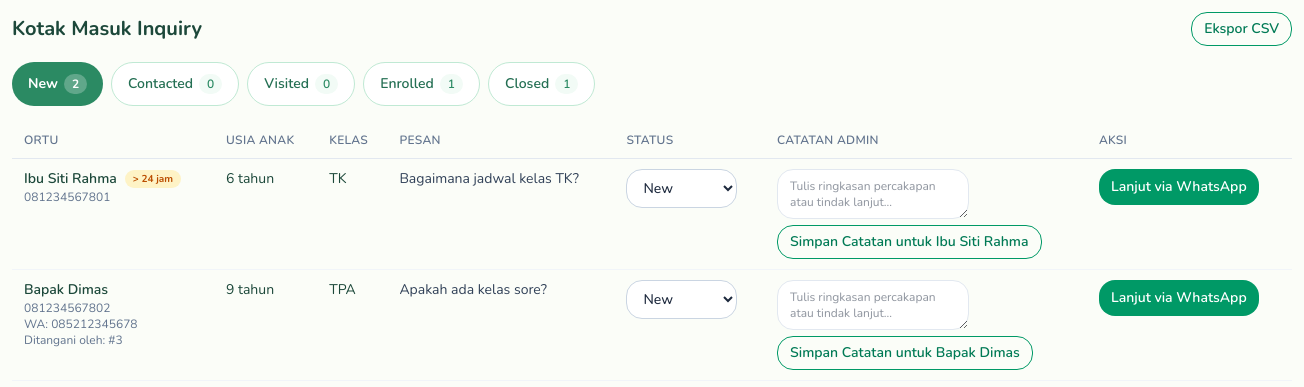
Test case: Inquiry inbox › changes status via PATCH with CSRF header and moves the row between tabs
The width and height of the screenshot is (1304, 387).
Expected: the text "Ibu Siti Rahma" is shown, [24,169,117,189]
Select "Contacted" in the dropdown named "Status Ibu Siti Rahma" at (682, 188), box [626,169,737,208]
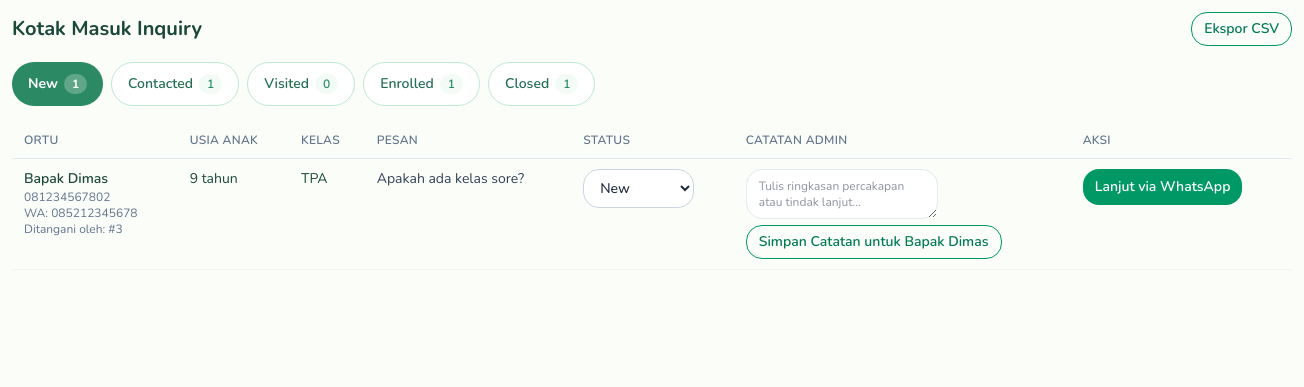
Now the button "New 1" is shown, box [12,62,103,106]
Now the button "Contacted 1" is shown
Now the text "Ibu Siti Rahma" is gone
Click the button "Contacted 1" at (175, 84), box [111,62,239,106]
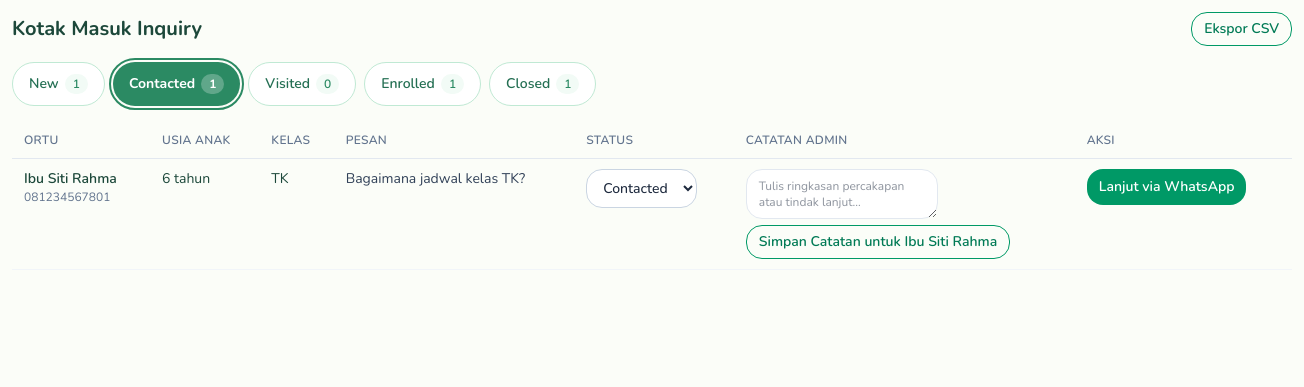
Now the text "Ibu Siti Rahma" is shown, box [24,169,117,189]
